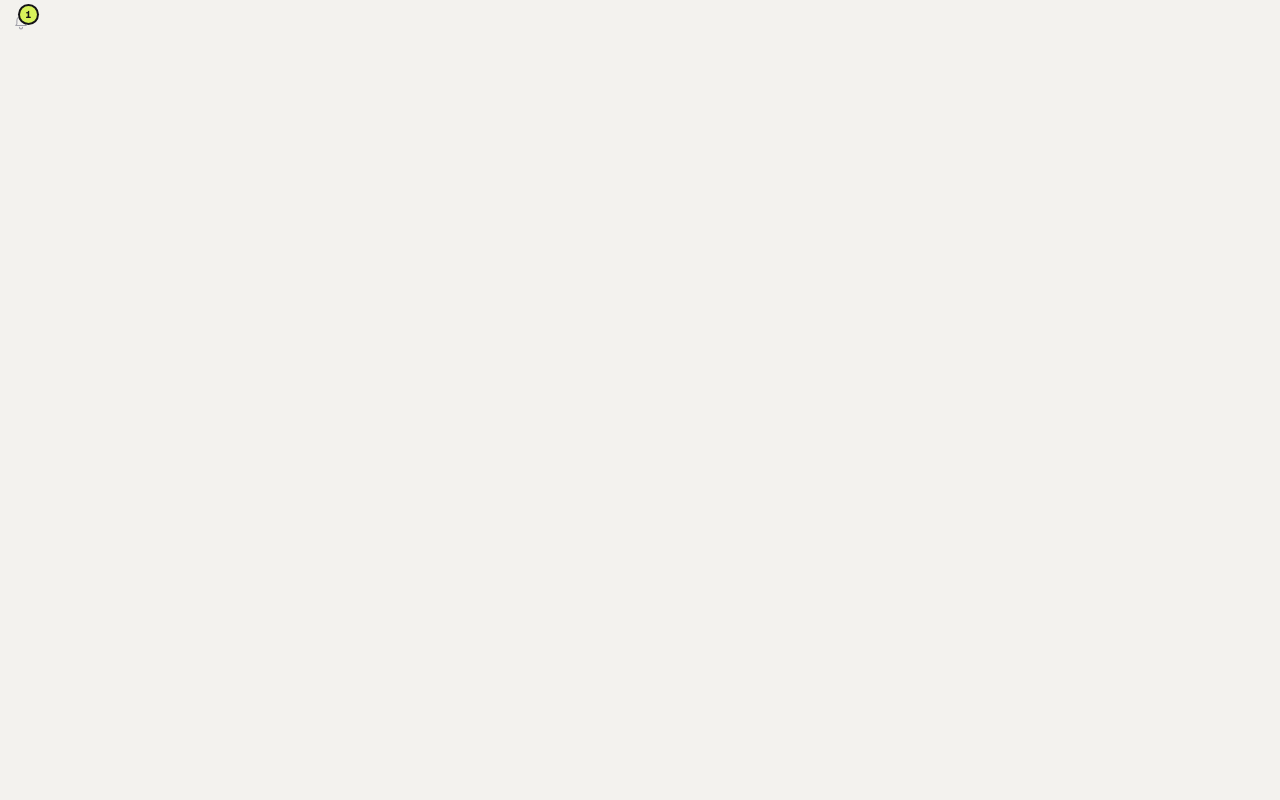
Test: NotificationBell › opens the inbox instead of leaving the page
Click the button named "Notifications" at x=21, y=21, box top-left (0, 0), bottom-right (42, 42)
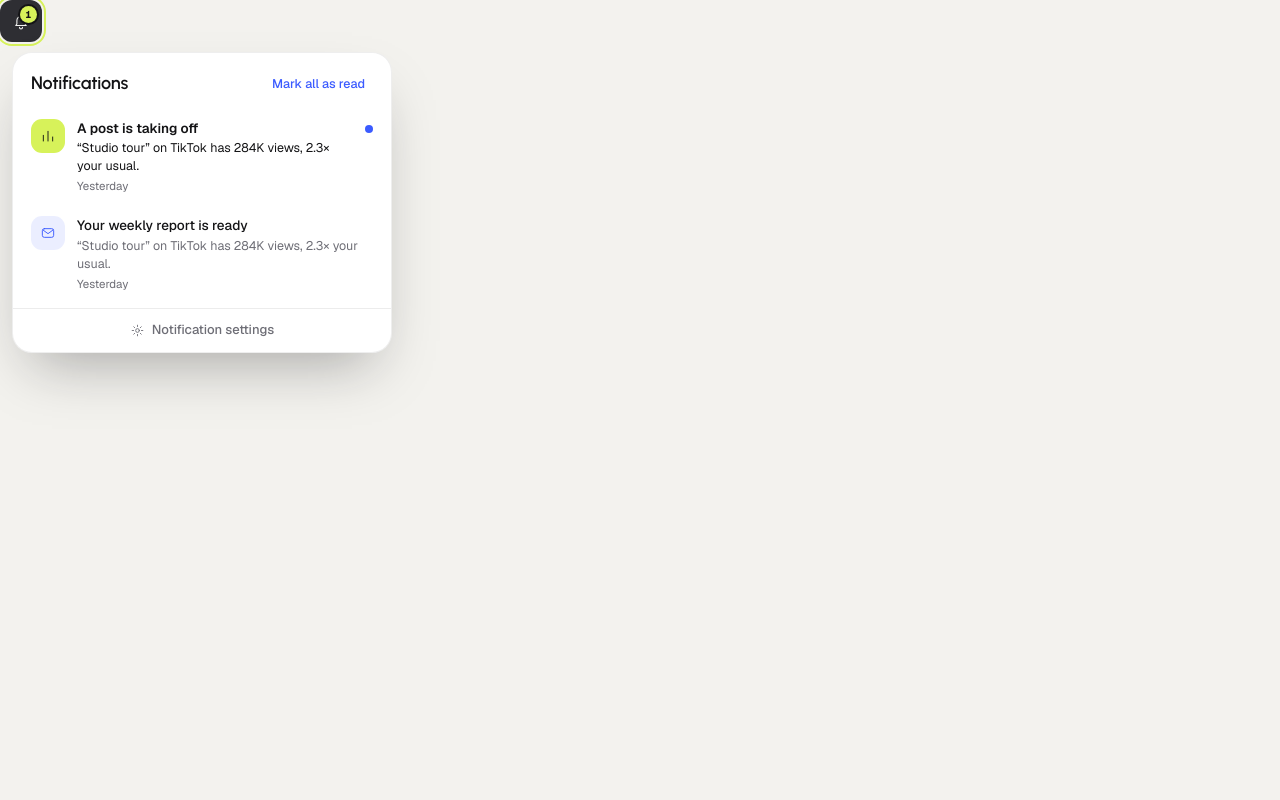
expect the text "A post is taking off" is shown: met, box top-left (77, 118), bottom-right (198, 136)
expect the text "Your weekly report is ready" is shown: met, box top-left (77, 216), bottom-right (248, 234)
